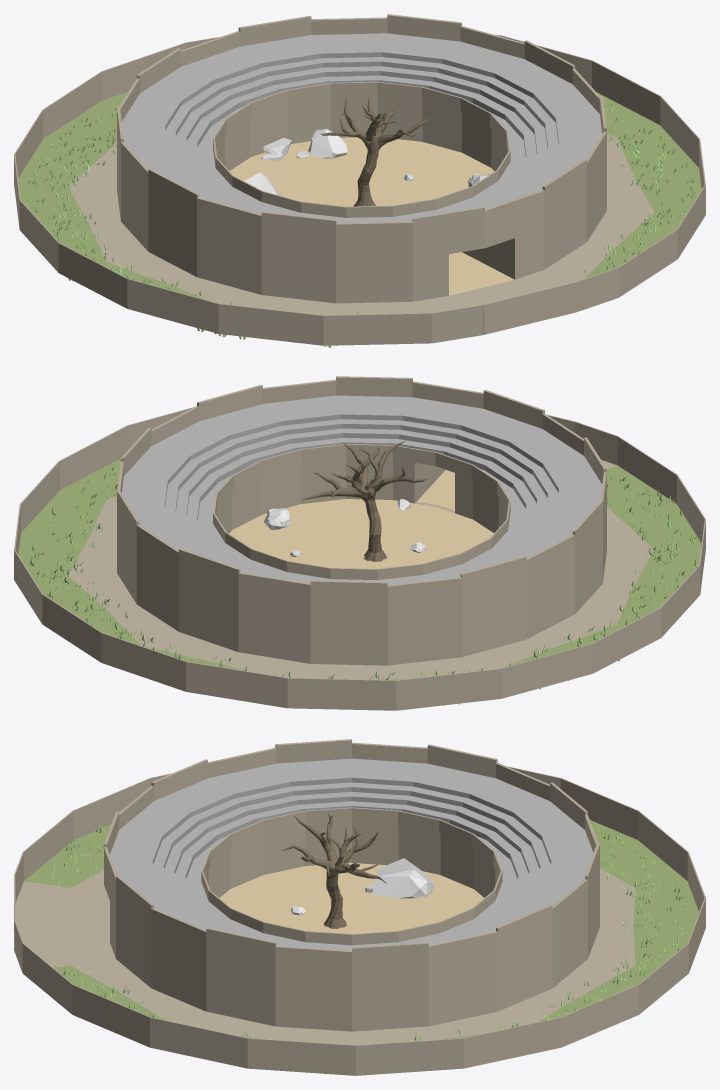
The model's file is stadium.dae.
The picture shows the model from 3 angles, top to bottom: view 1: azimuth 30°, elevation 25°; view 2: azimuth 150°, elevation 25°; view 3: azimuth 270°, elevation 25°; orthographic projection.
Parts seen in each view (by area): view 1: Cylinder_001, Cylinder_002, Arvore, rock_10_GEO; view 2: Cylinder_001, Cylinder_002, Arvore; view 3: Cylinder_001, Cylinder_002, Arvore, rock_07_GEO.
Boxes of the visible parts, left/top/right/bottom form: Cylinder_001: left=14, top=14, right=705, bottom=345; Cylinder_002: left=18, top=92, right=701, bottom=300; Arvore: left=320, top=96, right=431, bottom=206; rock_10_GEO: left=308, top=128, right=347, bottom=158; Cylinder_001: left=14, top=376, right=705, bottom=710; Cylinder_002: left=18, top=458, right=701, bottom=680; Arvore: left=301, top=440, right=426, bottom=562; Cylinder_001: left=14, top=739, right=705, bottom=1075; Cylinder_002: left=24, top=820, right=698, bottom=1039; Arvore: left=281, top=812, right=386, bottom=928; rock_07_GEO: left=372, top=858, right=434, bottom=898.
Size of the model in its own units: 74.03 by 73.14 by 14.35.
